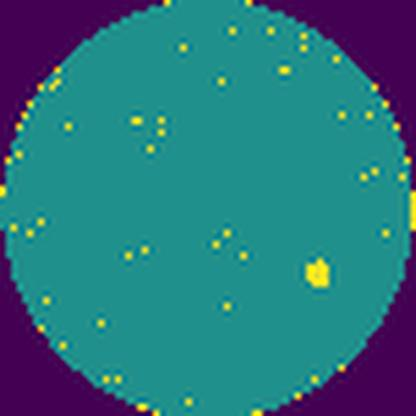Loc: (306, 256, 336, 294)
